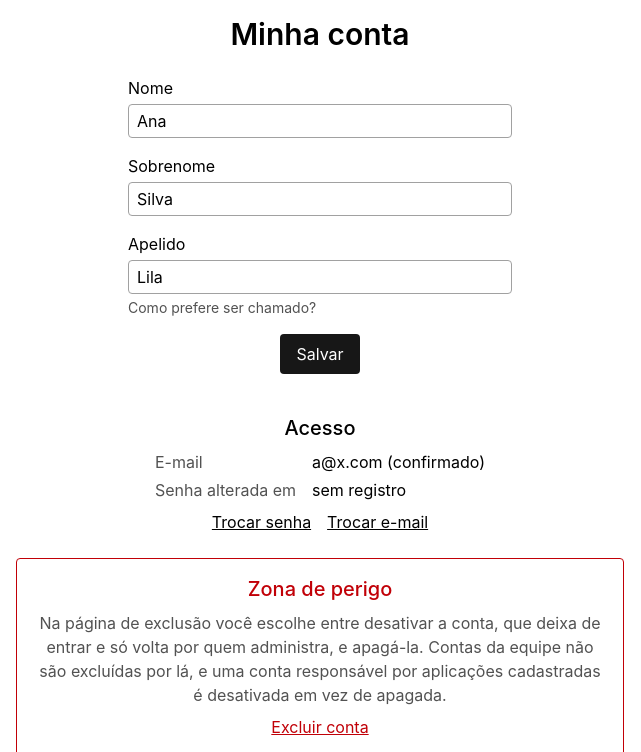
Conta: erros do PATCH › T-05) 429: role=alert com a mensagem de muitas tentativas e nenhum erro de campo
The width and height of the screenshot is (641, 752).
Expected: the heading "Minha conta" is shown, [230, 16, 410, 52]
Replace the text in the field labelled "Nome" with "Nova". click: (320, 121)
box: [128, 104, 512, 138]
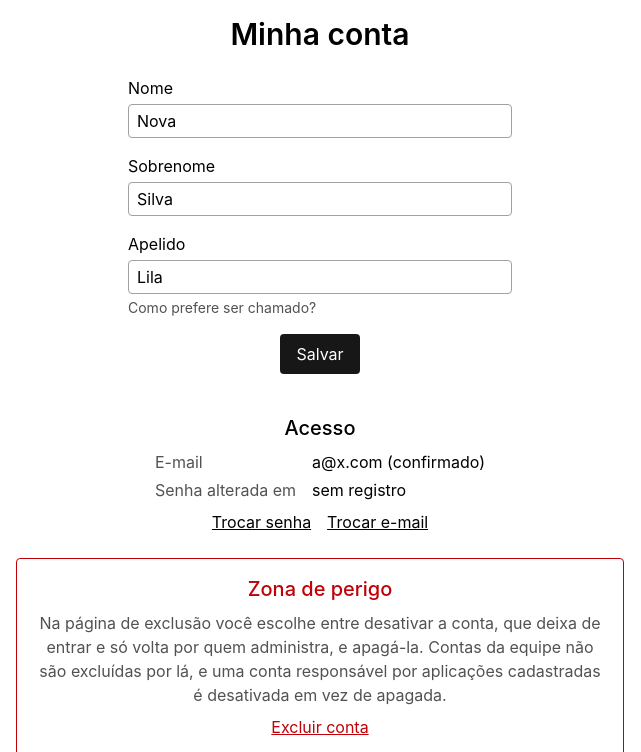
Click the button "Salvar". click: (320, 354)
box: [280, 334, 360, 374]
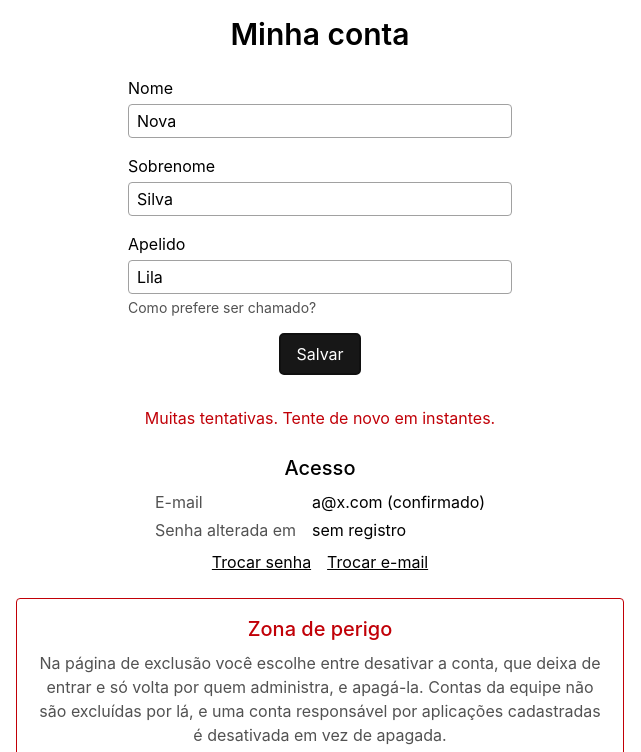
Expected: the message reads "Muitas tentativas. Tente de novo em instantes.", [145, 408, 495, 428]
